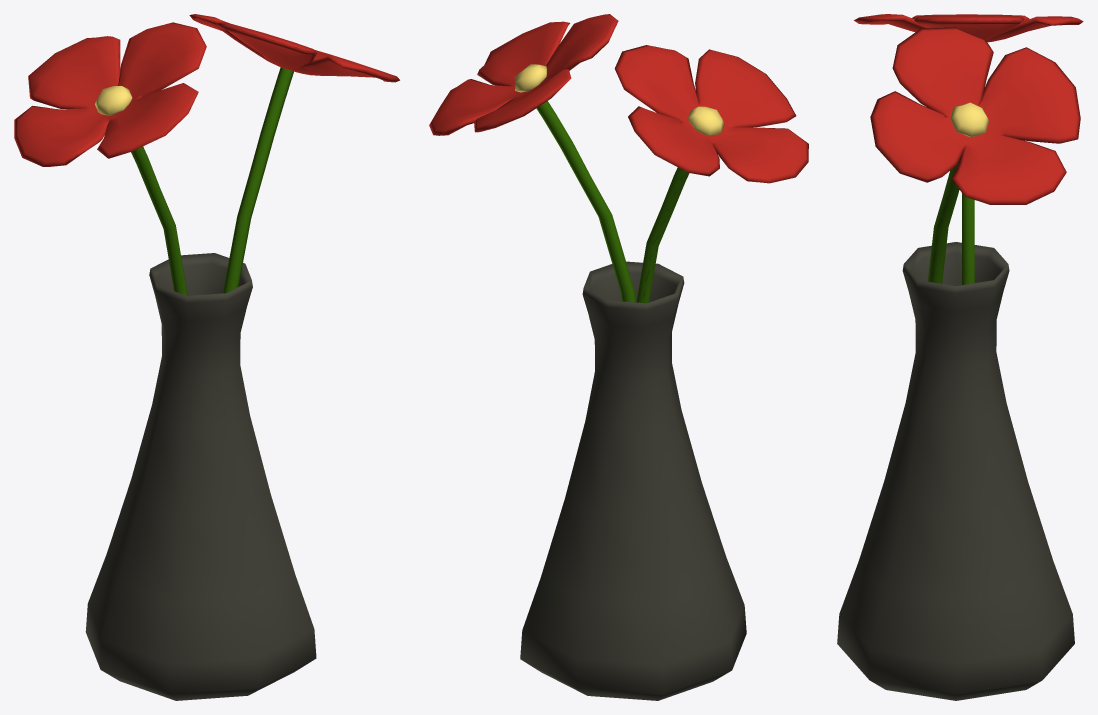
Rendered from Vase.fbx.
3 views of the same model, side by side, from view 1: azimuth 30°, elevation 25°; view 2: azimuth 150°, elevation 25°; view 3: azimuth 270°, elevation 25° (orthographic). The views are drawn at different scales.
Visible parts, largest first — view 1: Vase, Flowers; view 2: Vase, Flowers; view 3: Vase, Flowers.
Part boxes in pixels (x1,y1,x2,y2): Vase: [85, 253, 316, 700]; Flowers: [14, 14, 399, 295]; Vase: [520, 261, 746, 700]; Flowers: [429, 14, 808, 303]; Vase: [837, 242, 1074, 700]; Flowers: [854, 14, 1083, 284].
Size of the model in its own units: 21.35 by 37.03 by 12.58.
